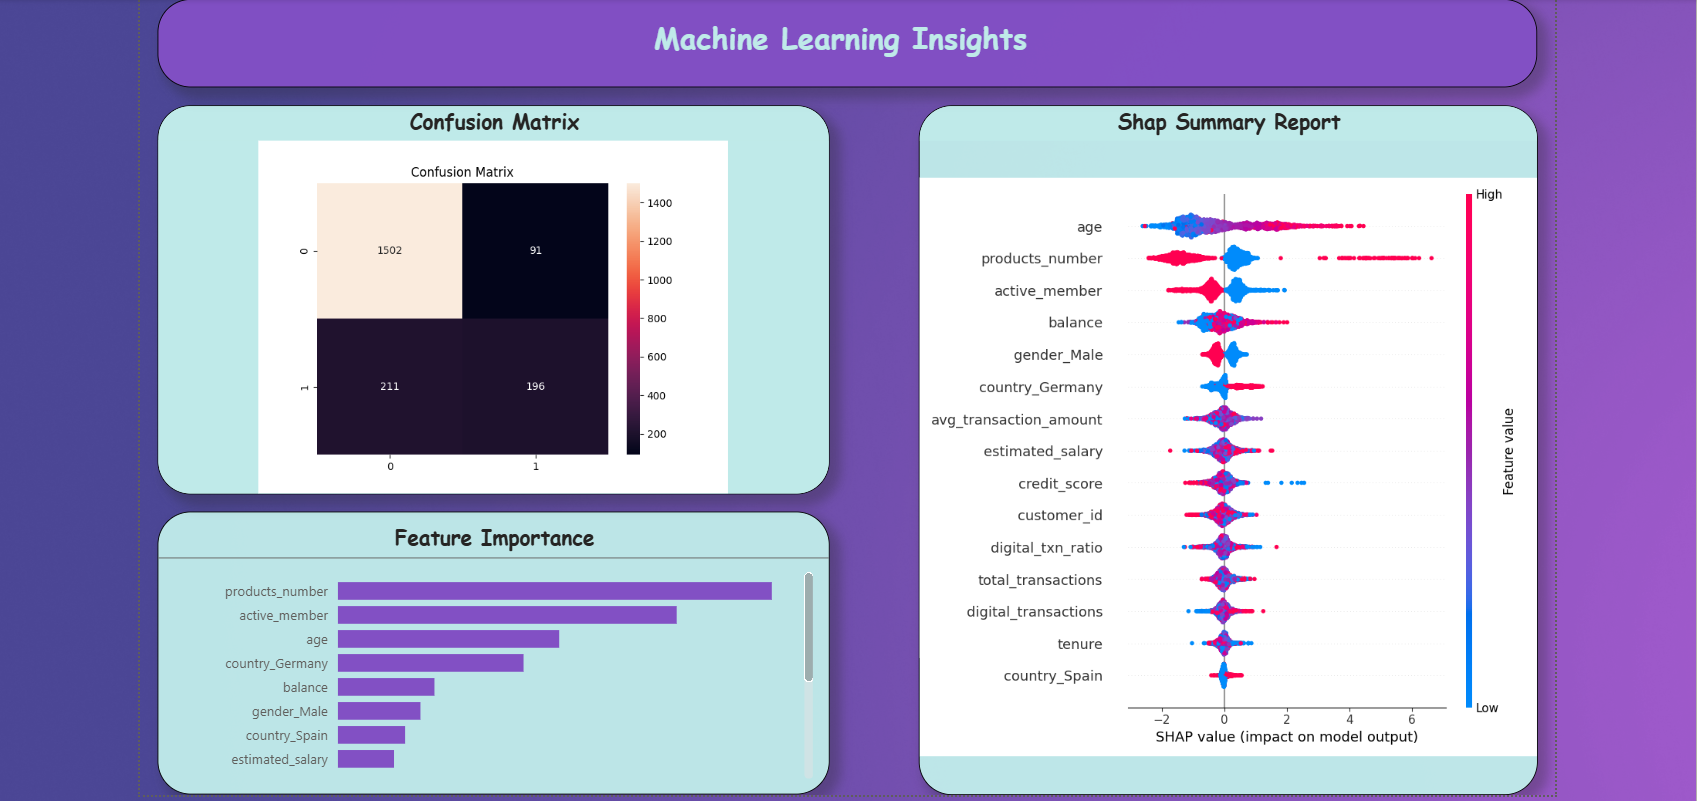

The page's visual inventory and layout, read from the dashboard file:
{"tool":"powerbi","page":{"name":"ML Insights","canvas":[1280,720],"ordinal":2},"visuals":[{"type":"barChart","title":"Feature Importance","fields":{"Category":["feature_importance.feature"],"Y":["Sum(feature_importance.importance)"]},"box":[16,464,608,256],"z":0},{"type":"image","title":"Confusion Matrix","box":[16,96,608,352],"z":1000},{"type":"image","title":"Shap Summary Report","box":[704,96,560,624],"z":2000},{"type":"textbox","box":[16,0,1248,80],"z":3000}]}

Visuals, with their boxes on the page's 1280x720 design canvas (x1, y1, x2, y2). These are canvas units, not pixel positions in the 1697x801 screenshot, which may show the page scaled, cropped or inside an application window:
"Feature Importance" barChart: <region>16, 464, 624, 720</region>
"Confusion Matrix" image: <region>16, 96, 624, 448</region>
"Shap Summary Report" image: <region>704, 96, 1264, 720</region>
textbox: <region>16, 0, 1264, 80</region>
